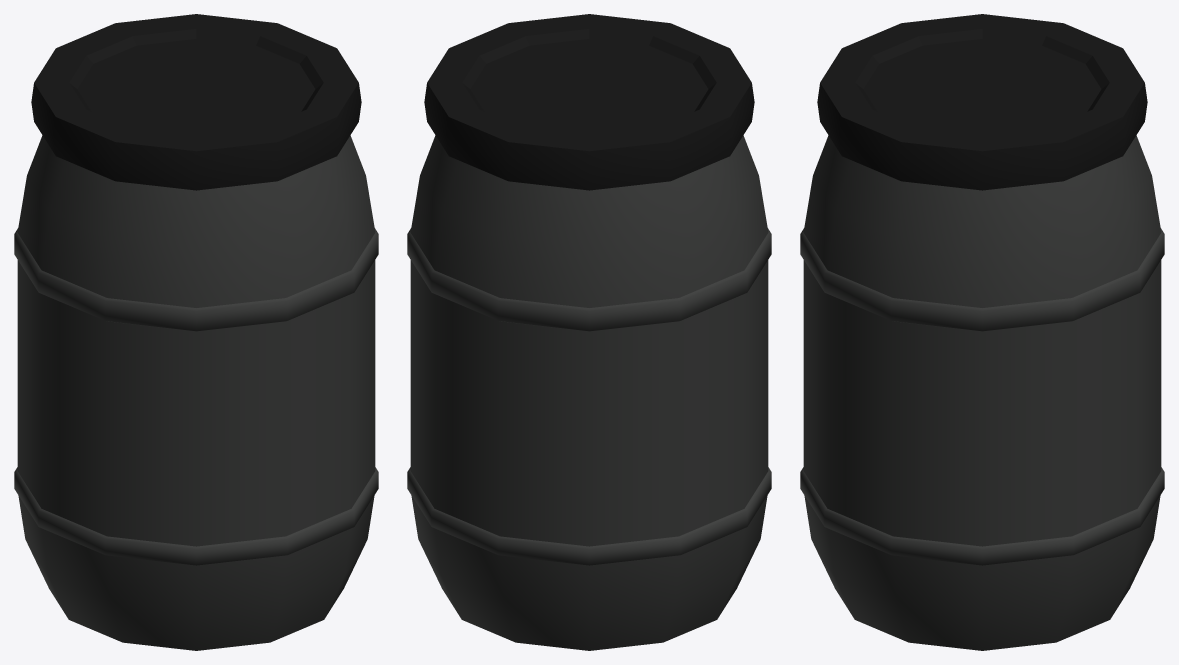
File: BlackWaterBarrel.glb
3 renders of one model, left to right at view 1: azimuth 30°, elevation 25°; view 2: azimuth 150°, elevation 25°; view 3: azimuth 270°, elevation 25°, orthographic.
Parts seen in each view (by area): view 1: blackWaterBarrel; view 2: blackWaterBarrel; view 3: blackWaterBarrel.
Part boxes in pixels (<box>): blackWaterBarrel: <box>14,14,378,650</box>; blackWaterBarrel: <box>407,14,771,650</box>; blackWaterBarrel: <box>800,14,1164,650</box>.
Size of what is drawn, in the model's own units: 0.7613 by 1.17 by 0.7613.
1 material, 1 textured.
